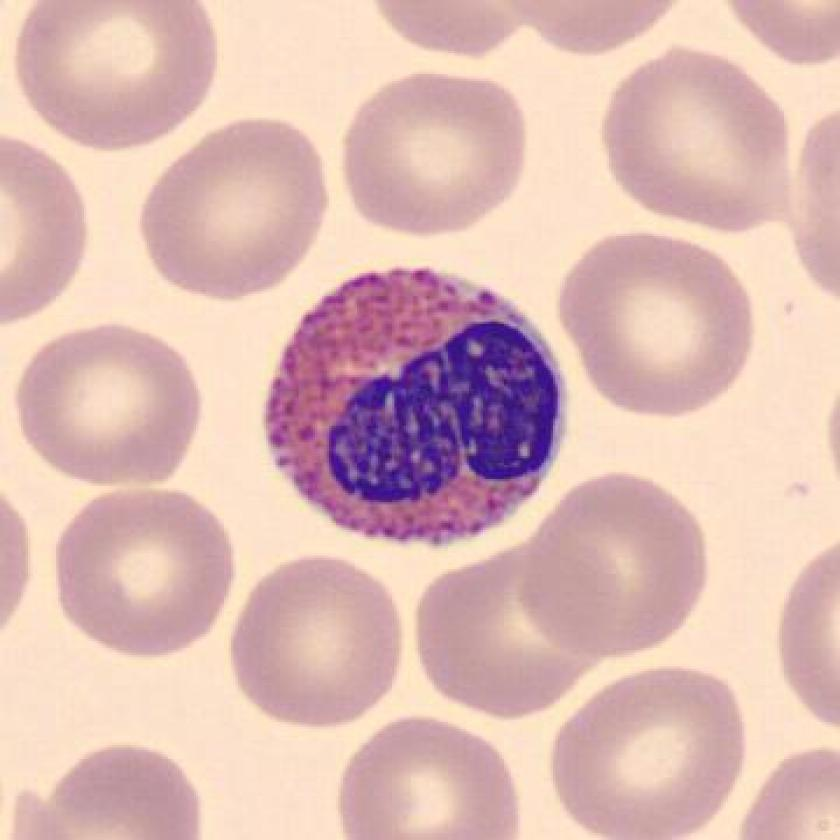eosinophil: (253, 251, 580, 556)
